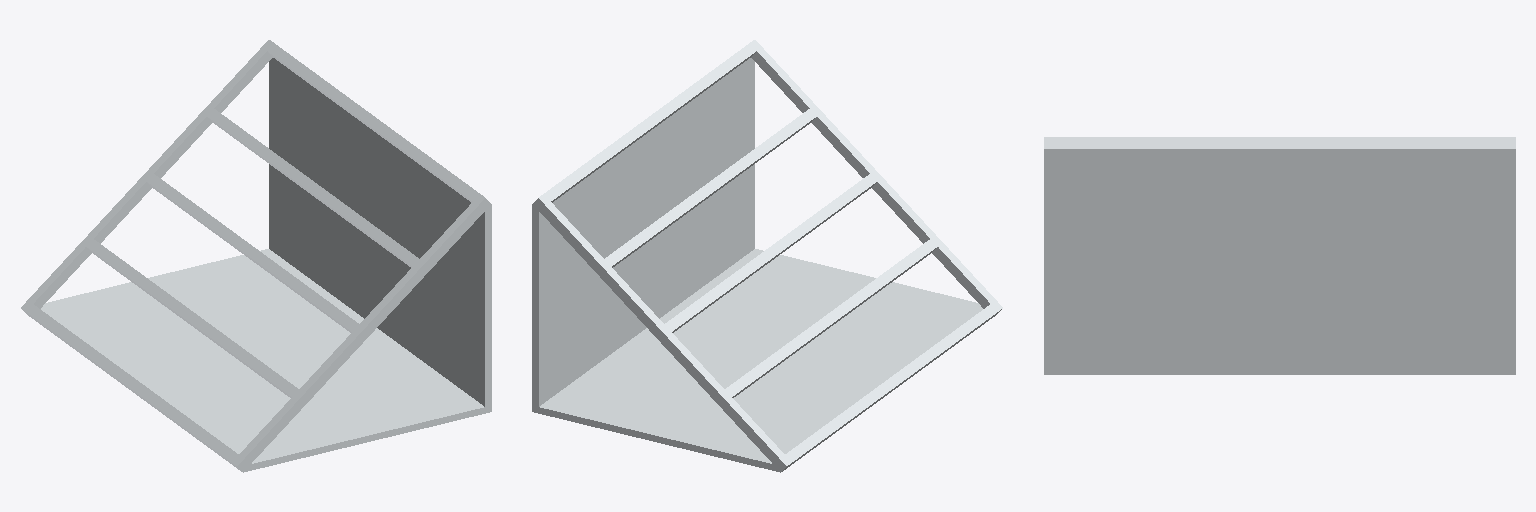
robot.urdf — model-ladder:
<?xml version="1.0" encoding="utf-8"?>
<!-- This URDF was automatically created by SolidWorks to URDF Exporter! Originally created by [author] ([email redacted]) 
     Commit Version: 1.6.0-4-g7f85cfe  Build Version: 1.6.7995.38578
     For more information, please see http://wiki.ros.org/sw_urdf_exporter -->
<robot
  name="model-ladder">
  <link
    name="base_link">
    <inertial>
      <origin
        xyz="-0.25602 -2.6645E-14 0.17877"
        rpy="0 0 0" />
      <mass
        value="108.9" />
      <inertia
        ixx="18.754"
        ixy="-1.6782E-14"
        ixz="-3.1724"
        iyy="12.372"
        iyz="-3.7281E-15"
        izz="21.63" />
    </inertial>
    <visual>
      <origin
        xyz="0 0 0"
        rpy="0 0 0" />
      <geometry>
        <mesh
          filename="package://model-ladder/meshes/base_link.STL" />
      </geometry>
      <material
        name="">
        <color
          rgba="0.89804 0.91765 0.92941 1" />
      </material>
    </visual>
    <collision>
      <origin
        xyz="0 0 0"
        rpy="0 0 0" />
      <geometry>
        <mesh
          filename="package://model-ladder/meshes/base_link.STL" />
      </geometry>
    </collision>
  </link>
</robot>

--- Render facts (derived) ---
The picture shows the robot from 3 angles, left to right: view 1: azimuth 30°, elevation 25°; view 2: azimuth 150°, elevation 25°; view 3: azimuth 270°, elevation 25°; orthographic projection.
Robot: model-ladder — 1 links, 0 joints (none); root link base_link; default pose: all joints at 0.
Links seen in each view (by area): view 1: base_link; view 2: base_link; view 3: base_link.
Link boxes in pixels (x1,y1,x2,y2): base_link: [21, 40, 491, 472]; base_link: [532, 40, 1002, 472]; base_link: [1044, 137, 1515, 374].
Bounding box of the posed robot: 0.8137 × 1.2 × 0.6594 m (x, y, z).
Meshes: 1 distinct files referenced, 1 mesh visuals loaded (1 binary STL).